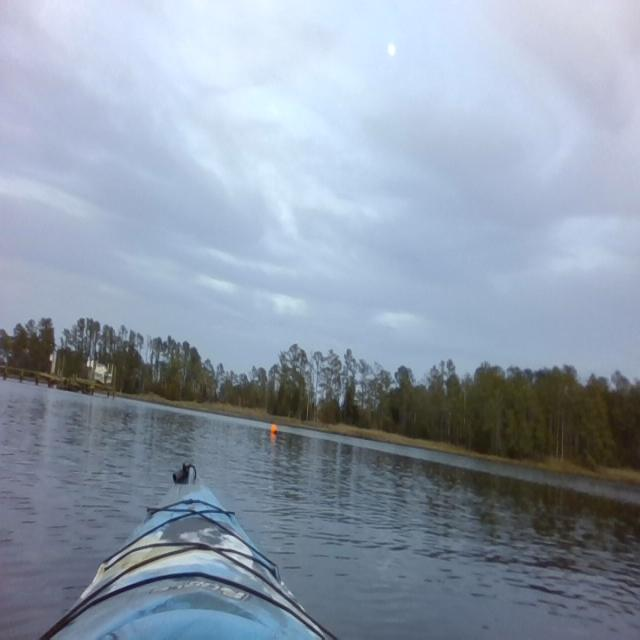Buoy: (270, 421, 280, 440)
